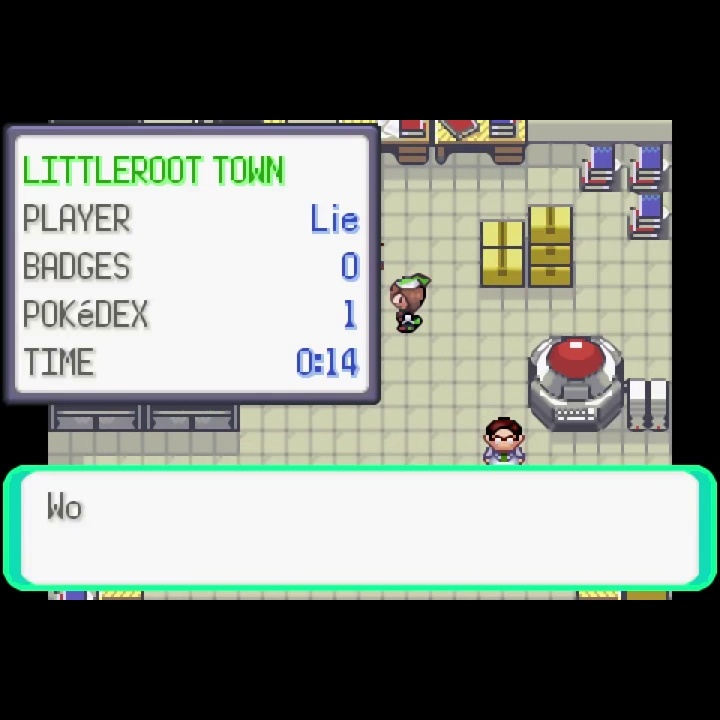npc: (386, 270, 435, 335), (479, 414, 529, 465)
